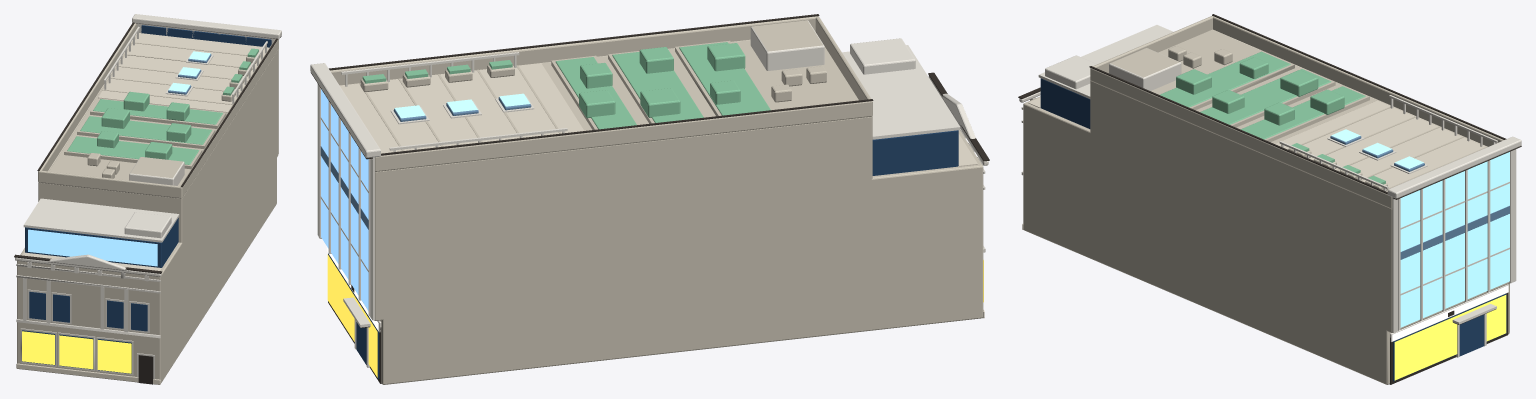
File: mid.glb
3 views of the same model, side by side, from view 1: azimuth 30°, elevation 25°; view 2: azimuth 150°, elevation 25°; view 3: azimuth 270°, elevation 25° (orthographic). The views are drawn at different scales.
Visible parts, largest first — view 1: grp_Toy_stone, grp_Toy_trim, grp_Toy_sand, body_high, grp_Toy_mint, grp_Toy_glassl_Glow, grp_Toy_glass, grp_Toy_mustard_Glow, grp_Toy_ink, plant_screen, setback_glass; view 2: grp_Toy_stone, body_high, grp_Toy_trim, grp_Toy_sand, grp_Toy_mint, grp_Toy_glassl_Glow, grp_Toy_ink, setback_glass, plant_screen, grp_Toy_mustard_Glow, grp_Toy_glassl, grp_Toy_glass; view 3: grp_Toy_stone, body_high, grp_Toy_glassl_Glow, grp_Toy_trim, grp_Toy_mint, grp_Toy_sand, grp_Toy_mustard_Glow, grp_Toy_ink, plant_screen, setback_glass, grp_Toy_glass, grp_Toy_glassl (+1 smaller).
Part boxes in pixels (<box>): grp_Toy_stone: <box>17,23,278,383</box>; grp_Toy_trim: <box>15,14,281,384</box>; grp_Toy_sand: <box>16,34,268,384</box>; body_high: <box>38,33,278,242</box>; grp_Toy_mint: <box>67,48,258,164</box>; grp_Toy_glassl_Glow: <box>28,51,210,266</box>; grp_Toy_glass: <box>22,25,271,373</box>; grp_Toy_mustard_Glow: <box>22,331,131,373</box>; grp_Toy_ink: <box>14,22,281,384</box>; plant_screen: <box>129,157,184,185</box>; setback_glass: <box>25,218,178,267</box>; grp_Toy_stone: <box>330,16,983,384</box>; body_high: <box>340,39,872,234</box>; grp_Toy_trim: <box>310,38,988,367</box>; grp_Toy_sand: <box>340,63,984,318</box>; grp_Toy_mint: <box>362,42,770,129</box>; grp_Toy_glassl_Glow: <box>321,89,530,310</box>; grp_Toy_ink: <box>310,14,989,383</box>; setback_glass: <box>872,130,958,175</box>; plant_screen: <box>750,20,824,70</box>; grp_Toy_mustard_Glow: <box>327,254,983,377</box>; grp_Toy_glassl: <box>320,97,531,229</box>; grp_Toy_glass: <box>328,253,379,378</box>; grp_Toy_stone: <box>1023,15,1509,384</box>; body_high: <box>1090,29,1487,261</box>; grp_Toy_glassl_Glow: <box>1331,129,1509,327</box>; grp_Toy_trim: <box>1019,25,1521,357</box>; grp_Toy_mint: <box>1159,51,1385,184</box>; grp_Toy_sand: <box>1022,97,1485,229</box>; grp_Toy_mustard_Glow: <box>1394,295,1506,380</box>; grp_Toy_ink: <box>1018,14,1521,384</box>; plant_screen: <box>1109,48,1181,90</box>; setback_glass: <box>1040,78,1090,128</box>; grp_Toy_glass: <box>1393,293,1506,381</box>; grp_Toy_glassl: <box>1330,136,1509,259</box>.
Bounding box in the file's own units: 40.48 × 17.4 × 40.19.
